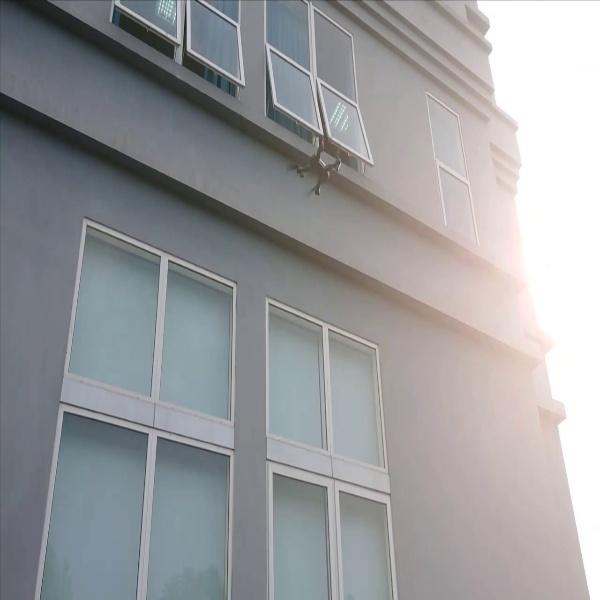drone: (276, 131, 352, 204)
